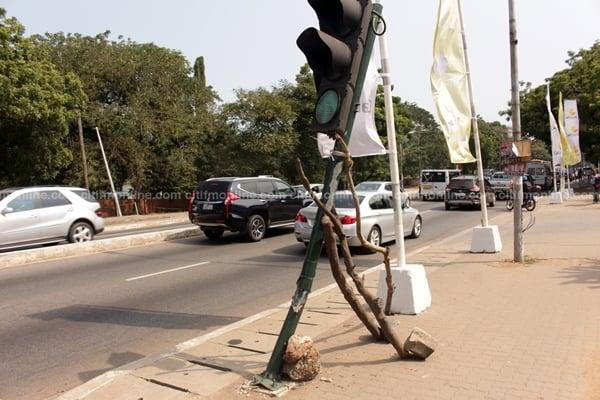off traffic light: (296, 0, 372, 134)
